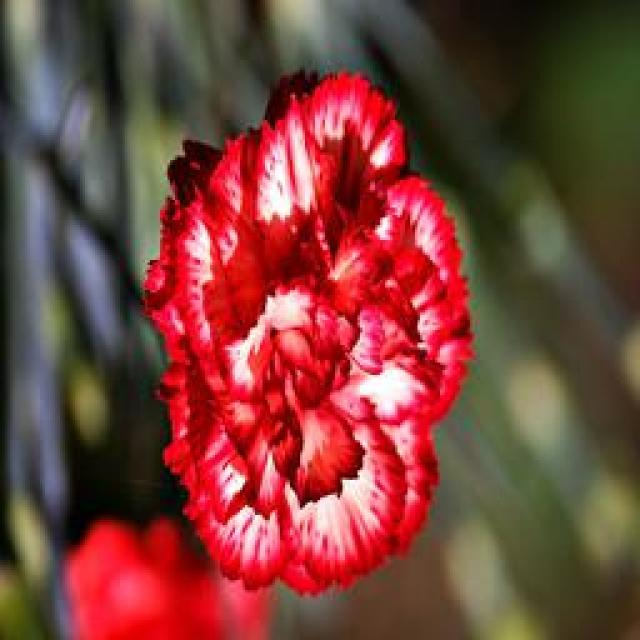carnation: (148, 62, 516, 602)
